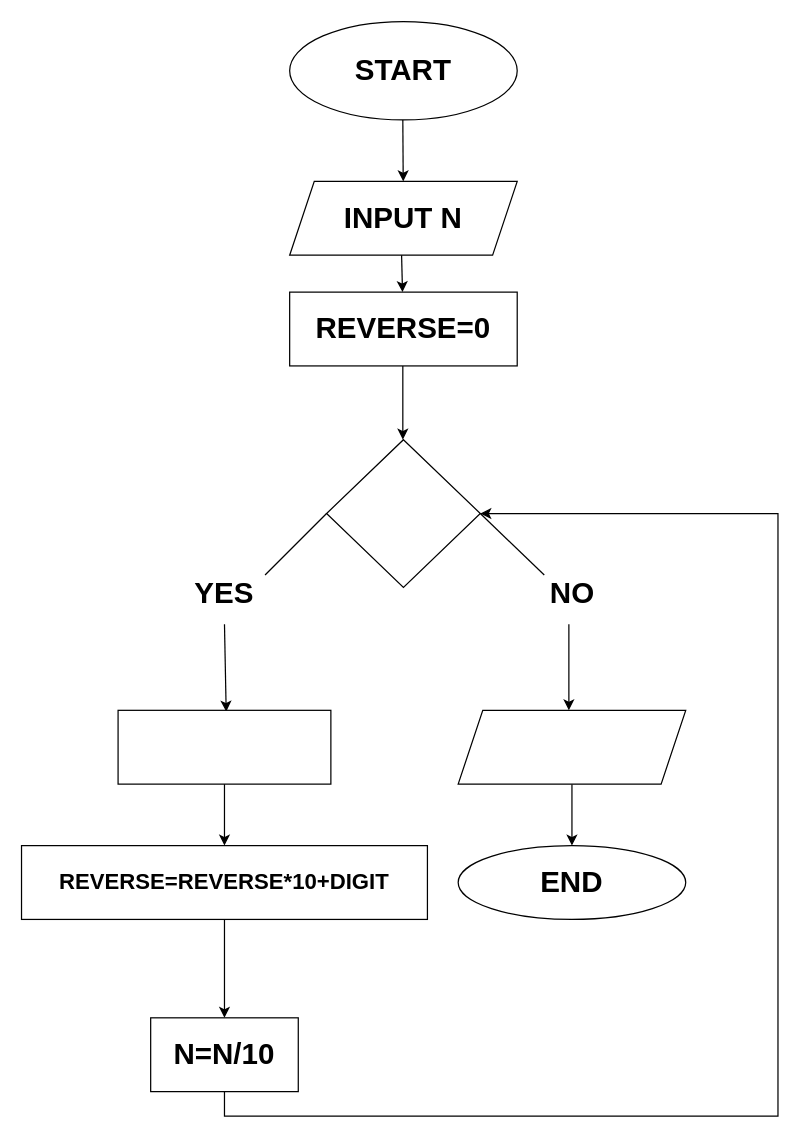
Image size: 809x1148. Some labels were removed from this diagram. The box of each missing label's shape, as (x1, y1, x2, y2) in pixels:
DIGIT=N%10: (117, 709, 331, 784)
N>0: (325, 438, 480, 587)
PRINT REVERSE: (457, 709, 686, 784)
